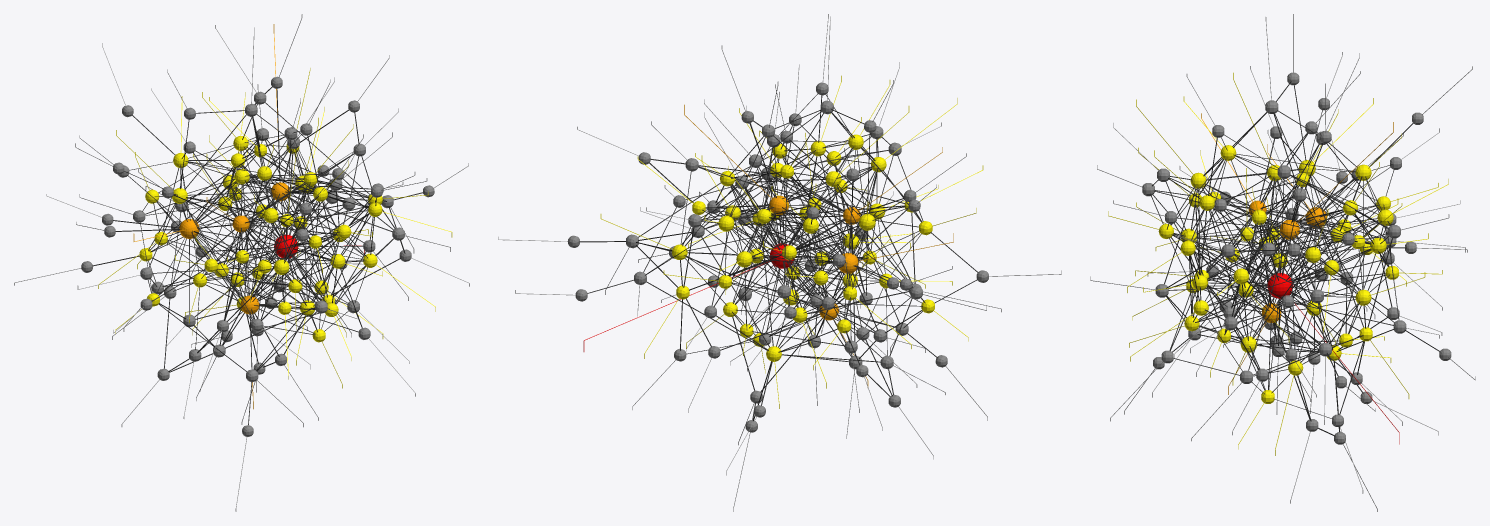
Rendered from nodes_edges.obj.
3 renders of one model, left to right at view 1: azimuth 30°, elevation 25°; view 2: azimuth 150°, elevation 25°; view 3: azimuth 270°, elevation 25°, orthographic. The views are drawn at different scales.
Parts seen in each view (by area): view 1: no part large enough to name; view 2: no part large enough to name; view 3: object_319.
Part boxes in pixels (bbox=[...]): object_319: bbox=[1267, 273, 1293, 298].
Size of the model in its own units: 1693 by 1611 by 1187.
